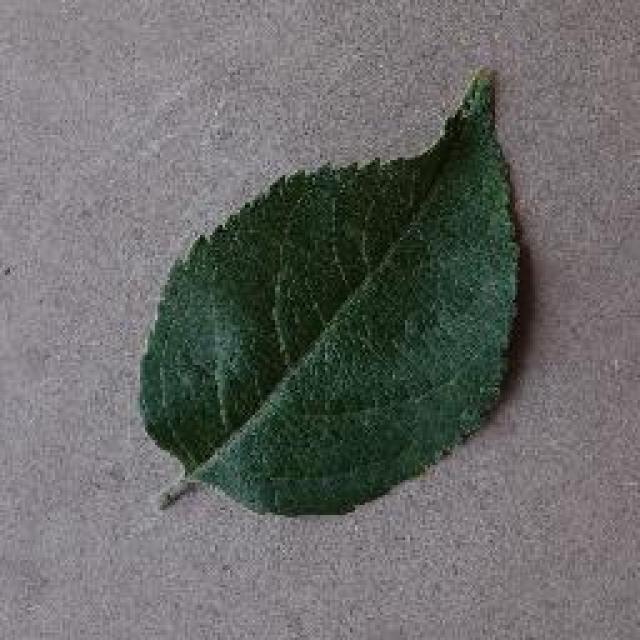apple healthy: (135, 62, 525, 518)
